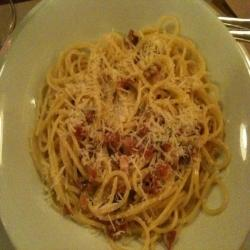carbonara: (37, 36, 205, 215)
